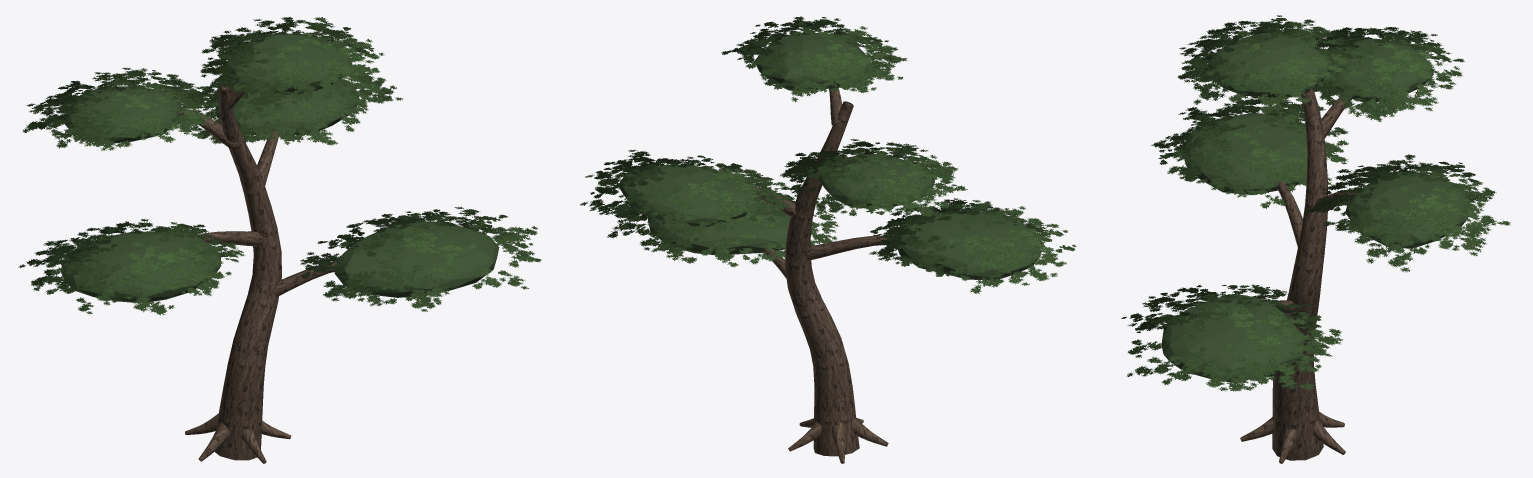
File: pine.glb
3 views of the same model, side by side, from view 1: azimuth 30°, elevation 25°; view 2: azimuth 150°, elevation 25°; view 3: azimuth 270°, elevation 25° (orthographic). The views are drawn at different scales.
Parts seen in each view (by area): view 1: 松-松葉, 松-松葉の奥, 松-樹皮; view 2: 松-松葉, 松-松葉の奥, 松-樹皮; view 3: 松-松葉, 松-松葉の奥, 松-樹皮.
Part boxes in pixels (box(x1,y1,x2,y2)): 松-松葉: box(18, 17, 541, 315); 松-松葉の奥: box(60, 33, 499, 302); 松-樹皮: box(177, 85, 336, 463); 松-松葉: box(580, 16, 1076, 293); 松-松葉の奥: box(620, 32, 1040, 280); 松-樹皮: box(753, 88, 894, 463); 松-松葉: box(1121, 15, 1510, 391); 松-松葉の奥: box(1161, 32, 1470, 382); 松-樹皮: box(1240, 88, 1356, 463).
Size of the model in its own units: 7.77 by 6.24 by 5.39.
3 materials, 2 textured.
